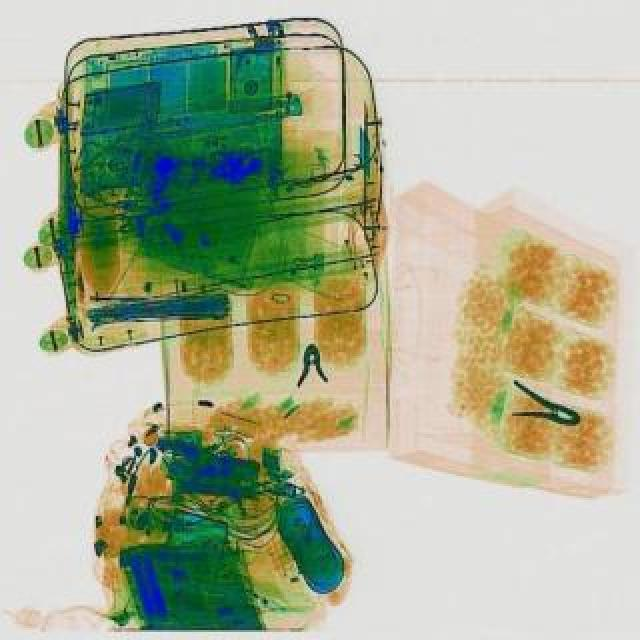wrench: (502, 378, 584, 430), (292, 340, 326, 384)
